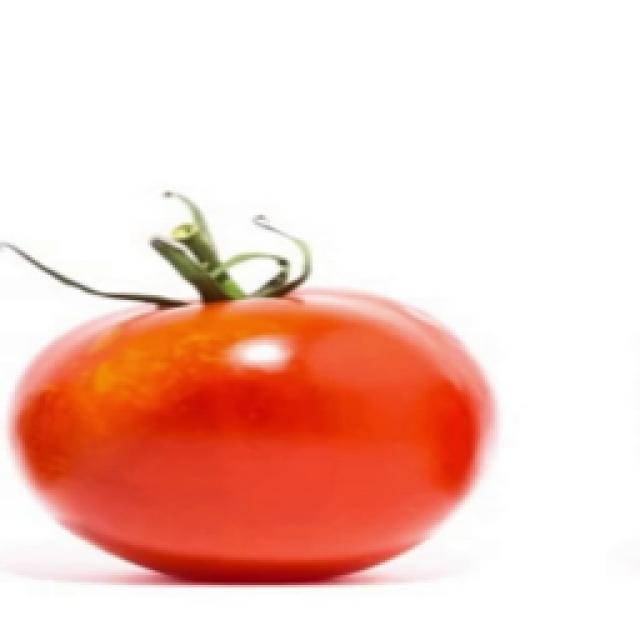tomato: (9, 209, 497, 587)
